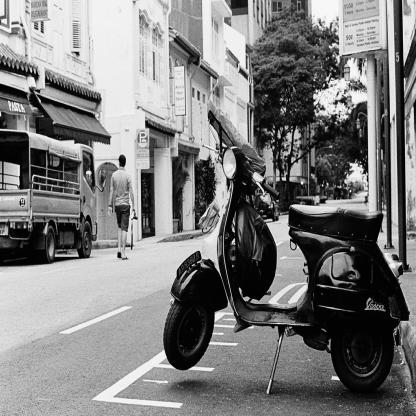Truck: (0, 129, 106, 263)
